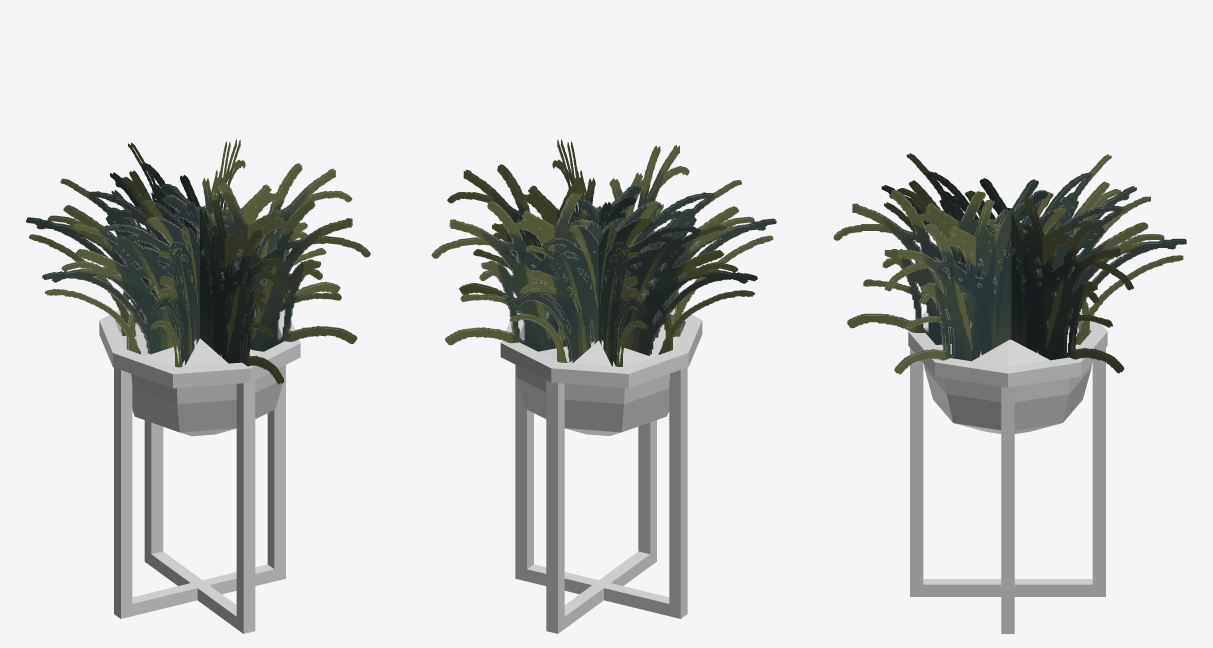
The model's file is Wood_plant_pot.fbx.
3 renders of one model, left to right at view 1: azimuth 30°, elevation 25°; view 2: azimuth 150°, elevation 25°; view 3: azimuth 270°, elevation 25°, orthographic.
Visible parts, largest first — view 1: Cube.040; view 2: Cube.040; view 3: Cube.040.
Boxes of the visible parts, bbox=[...] form: Cube.040: bbox=[26, 139, 370, 633]; Cube.040: bbox=[431, 139, 776, 633]; Cube.040: bbox=[833, 153, 1186, 633].
Size of the model in its own units: 351 by 506 by 351.
